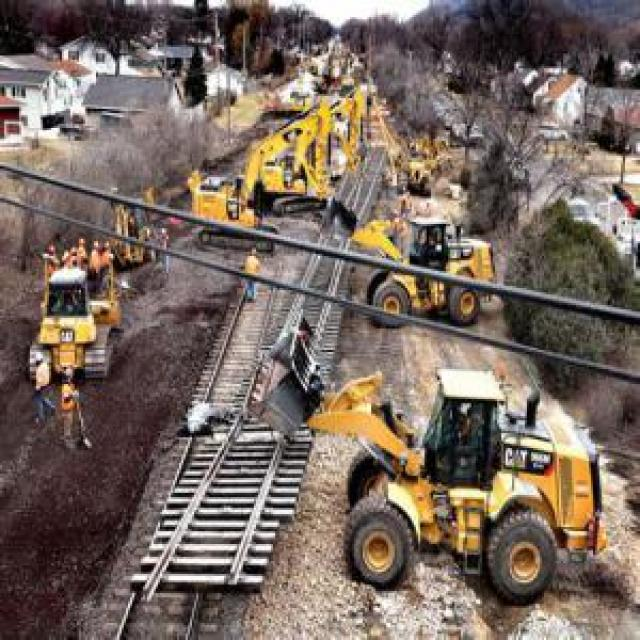danger: (47, 237, 119, 277), (30, 346, 55, 422), (61, 367, 78, 450), (394, 188, 410, 254), (246, 246, 260, 304), (405, 196, 433, 220), (158, 227, 171, 274), (460, 403, 474, 440), (418, 227, 429, 249)
